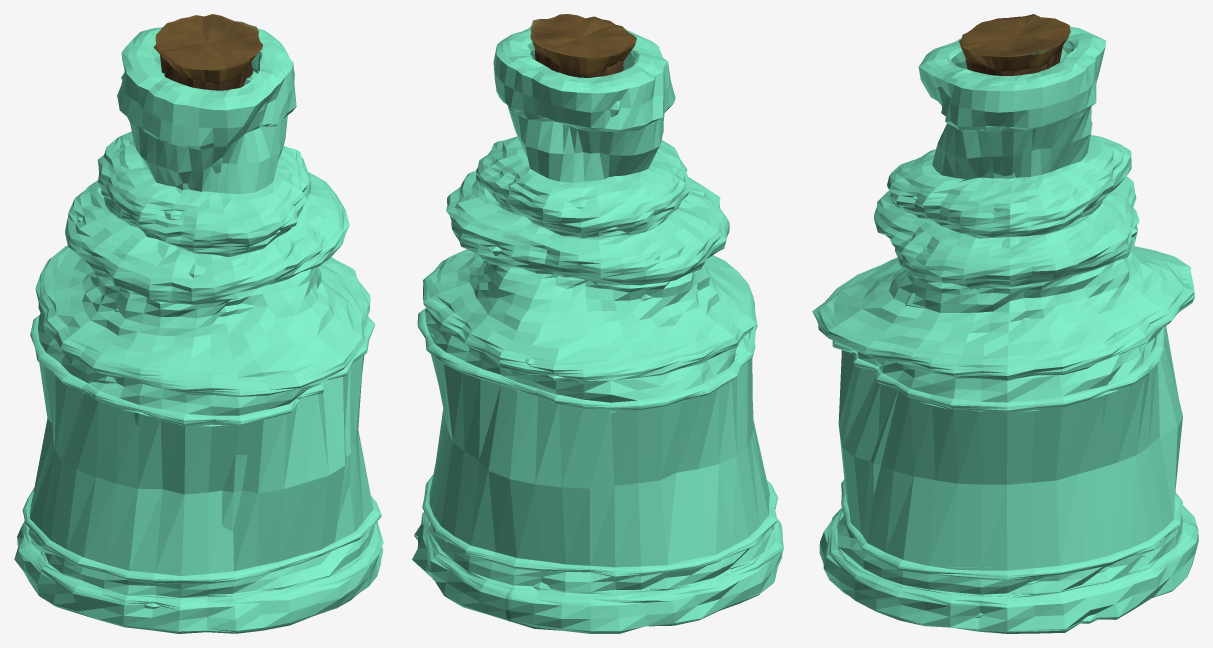
Rendered from crush_high_0.obj.
The picture shows the model from 3 angles, left to right: view 1: azimuth 30°, elevation 25°; view 2: azimuth 150°, elevation 25°; view 3: azimuth 270°, elevation 25°; orthographic projection. The views are drawn at different scales.
Visible parts, largest first — view 1: model; view 2: model; view 3: model.
Part boxes in pixels (x1,y1,x2,y2): model: (14,14,383,633); model: (412,14,783,633); model: (812,14,1198,633).
Size of the model in its own units: 0.0725 by 0.1126 by 0.0738.
1 material, 1 textured.
